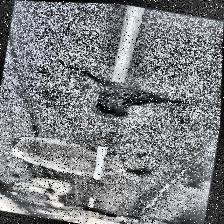pothole: (94, 76, 172, 124), (82, 206, 120, 218)
